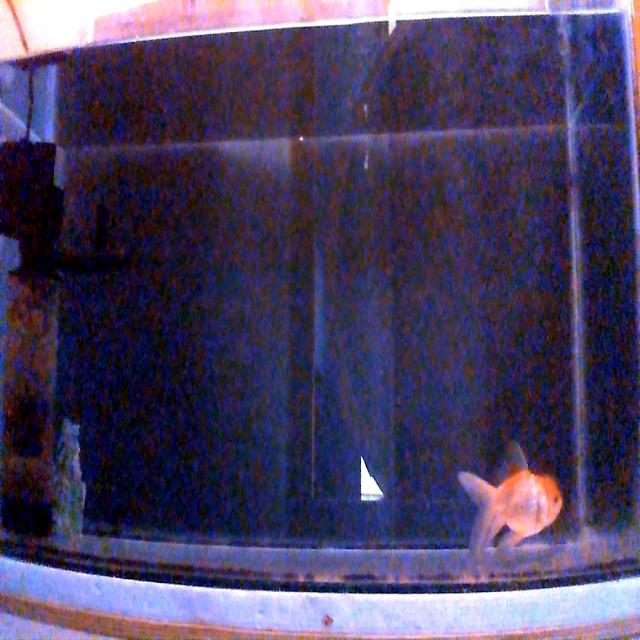fish: (456, 445, 562, 567)
